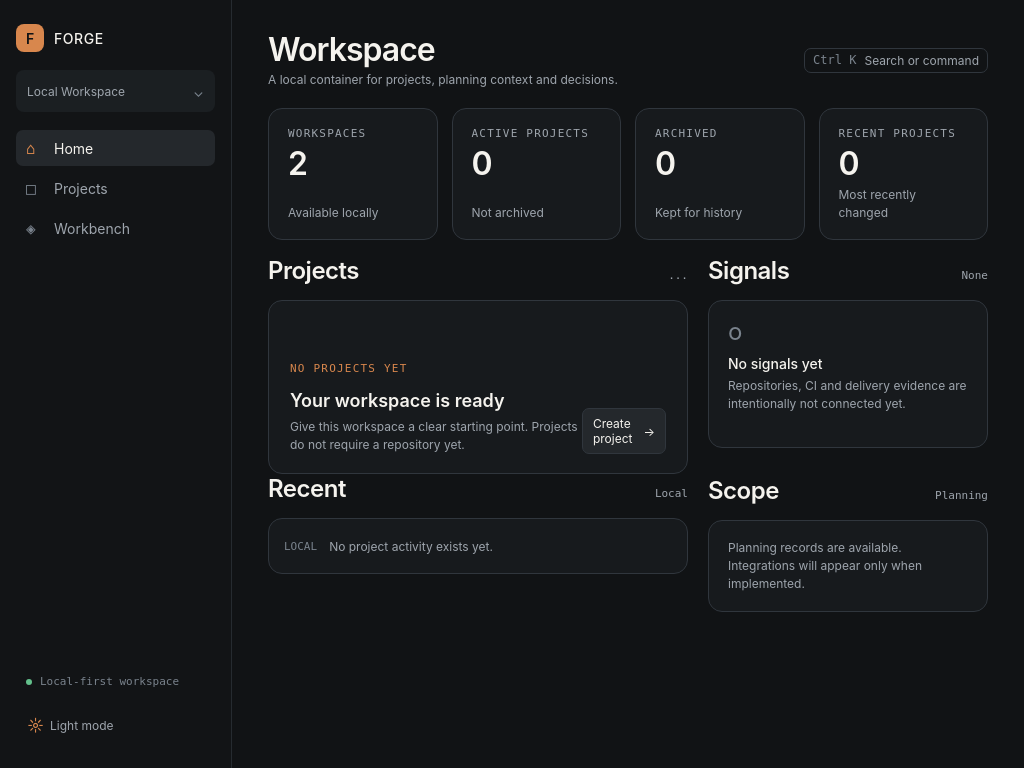
Test case: Forge workspace and project shell › navigates to projects and creates a command palette entry
Check: the heading "Workspace" is shown, box [268,30,435,69]
Press k
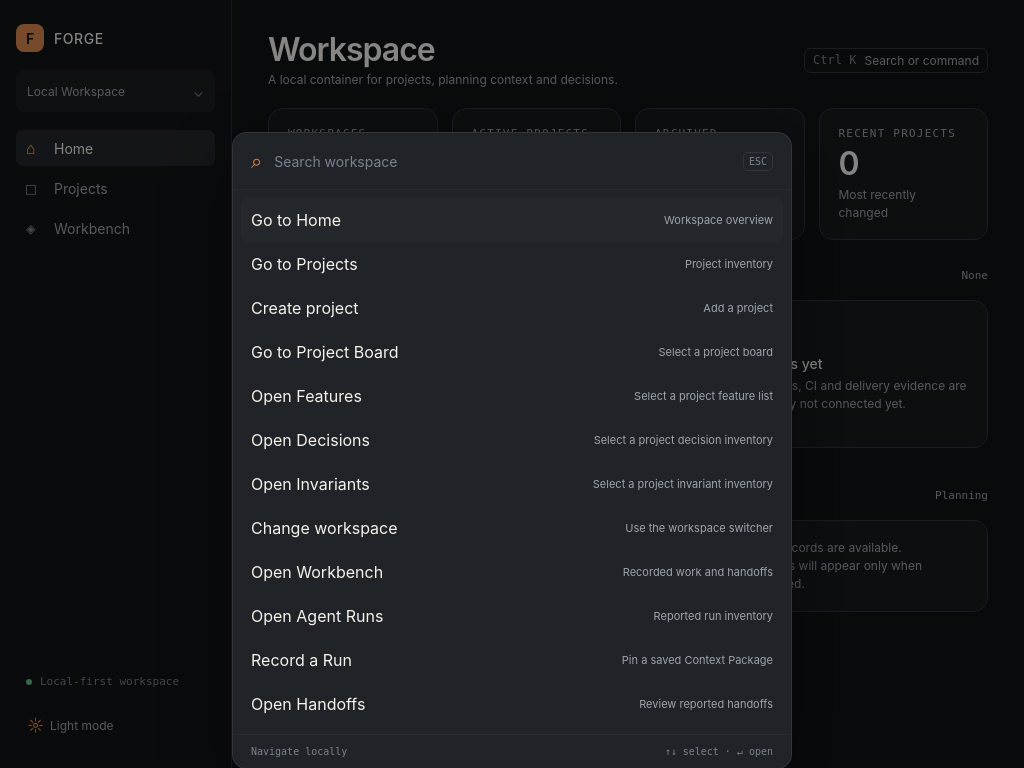
Check: the dialog named "Command palette" is shown, box [232,132,792,767]
Click the option "Create project Add a project" at (305, 308), box [241,286,783,330]
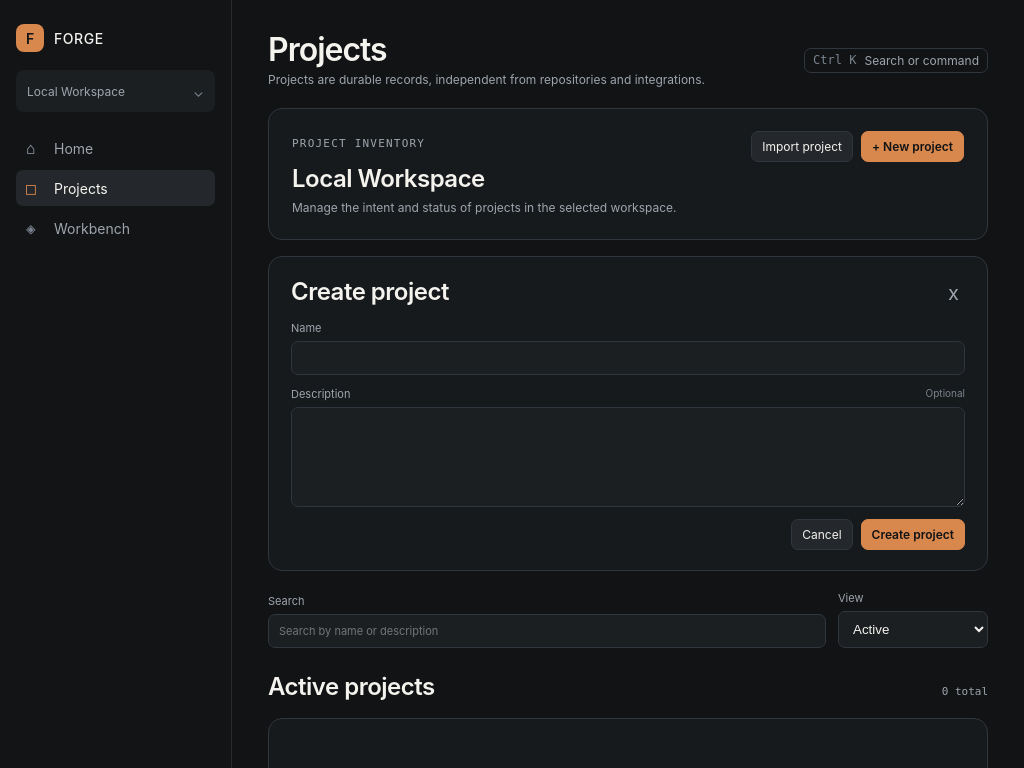
Check: the heading "Projects" is shown, box [268,30,387,69]
Check: the heading "Create project" is shown, box [291,277,449,307]
